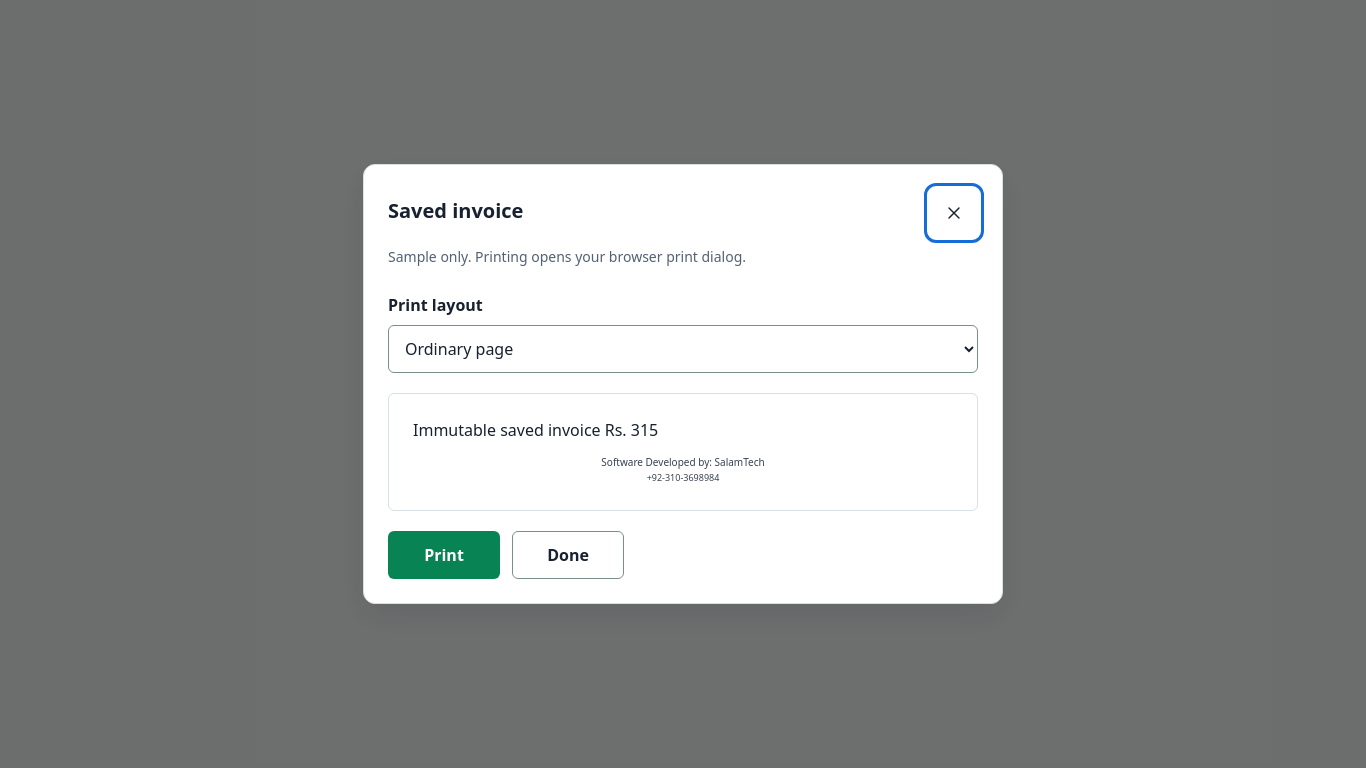
Test case: failed dialog opening has safe feedback; retry preserves the identical receipt and does not acknowledge or mutate
Click the button "Print".
click(444, 555)  # box left=388, top=531, right=500, bottom=579
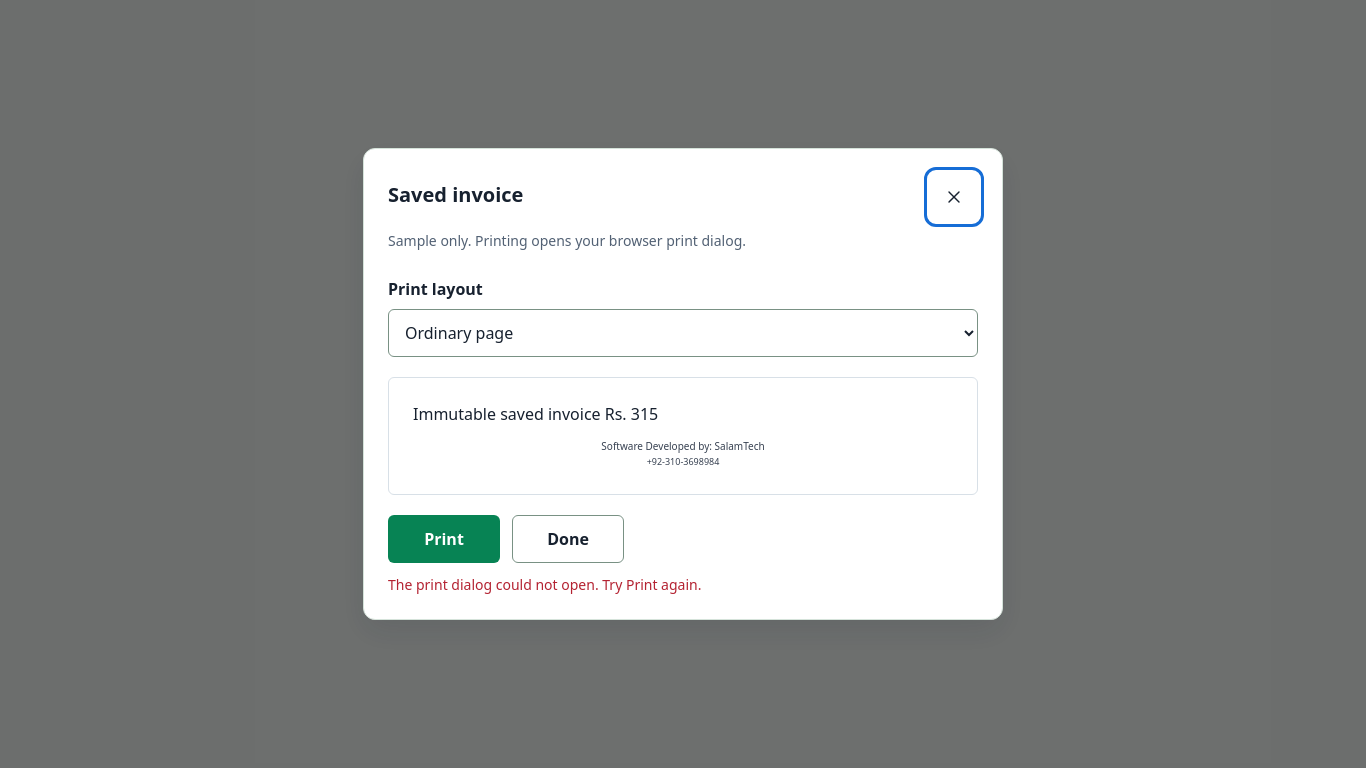
Expected: the message does not show "private driver detail", left=388, top=575, right=702, bottom=594
Expected: the message reads "The print dialog could not open. Try Print again.", left=388, top=575, right=702, bottom=594
Click the button "Print".
click(444, 539)  # box left=388, top=515, right=500, bottom=563
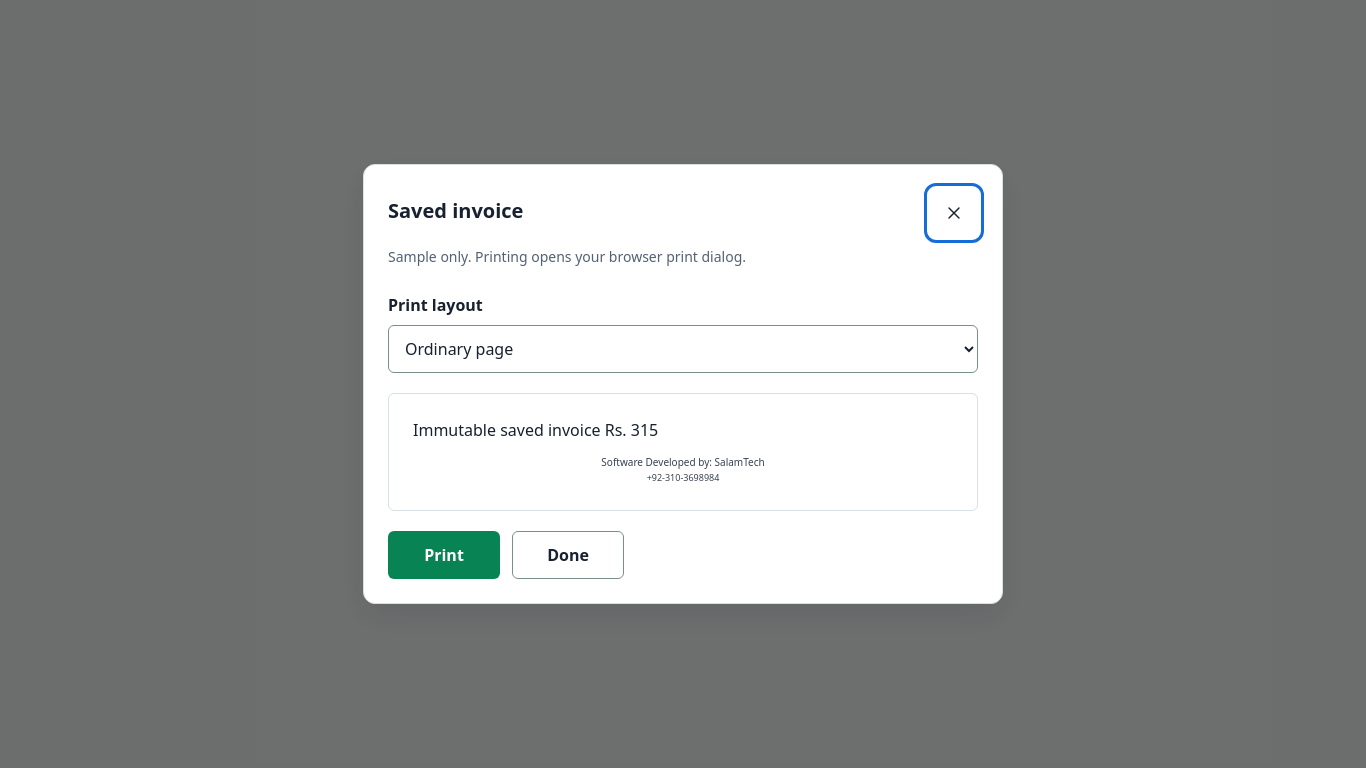
Expected: the dialog "Saved invoice" is shown, left=363, top=164, right=1003, bottom=604
Expected: the message "The print dialog could not open. Try Print again." is gone
